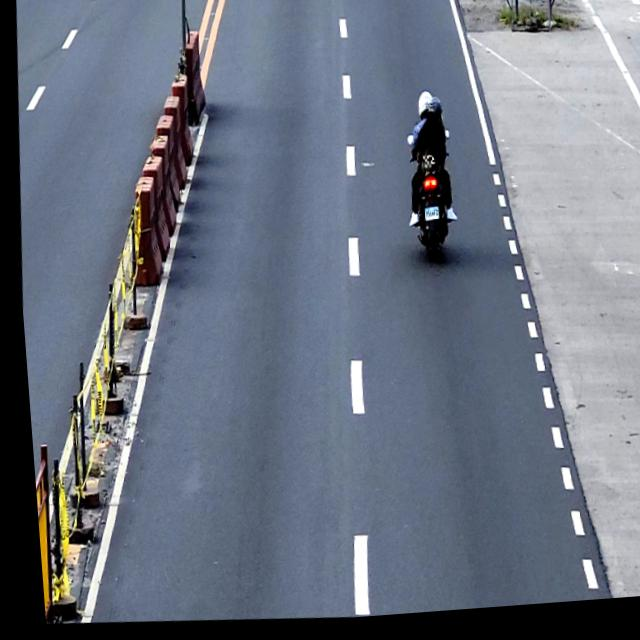License-Plate: (420, 211, 437, 229)
Motorcycle: (397, 133, 457, 274)
